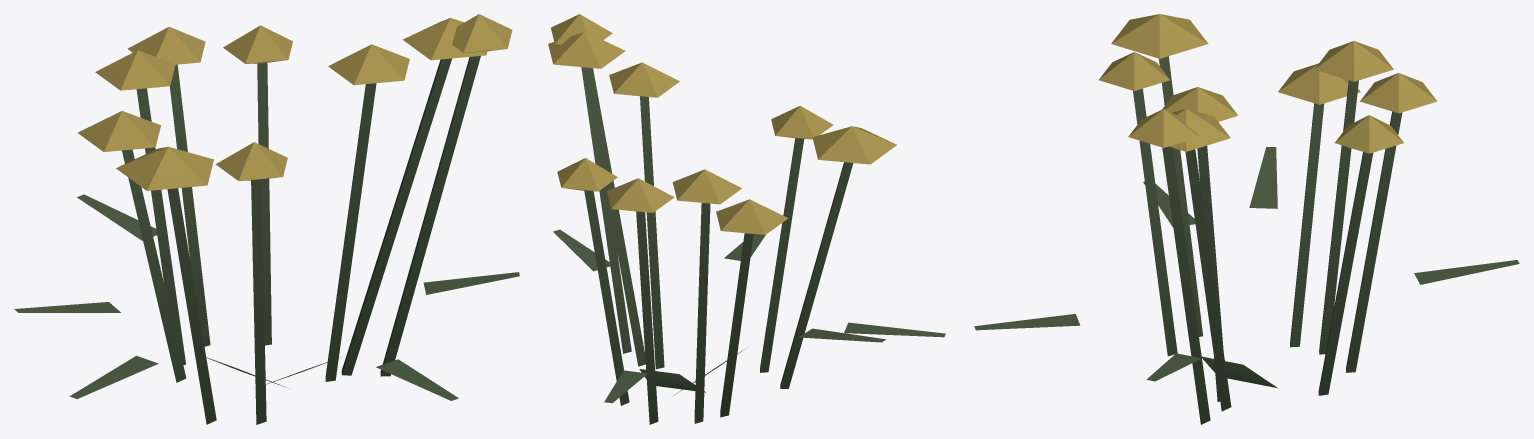
The model's file is blume_gelb2.glb.
3 renders of one model, left to right at view 1: azimuth 30°, elevation 25°; view 2: azimuth 150°, elevation 25°; view 3: azimuth 270°, elevation 25°, orthographic. The views are drawn at different scales.
Visible parts, largest first — view 1: blume_gelb2; view 2: blume_gelb2; view 3: blume_gelb2.
Boxes of the visible parts, x1=… form: blume_gelb2: x1=14, y1=14, x2=519, y2=424; blume_gelb2: x1=548, y1=14, x2=945, y2=424; blume_gelb2: x1=974, y1=14, x2=1519, y2=424.
Size of the model in its own units: 0.3939 by 0.3 by 0.4248.
